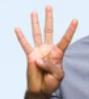right: (13, 4, 78, 90)
